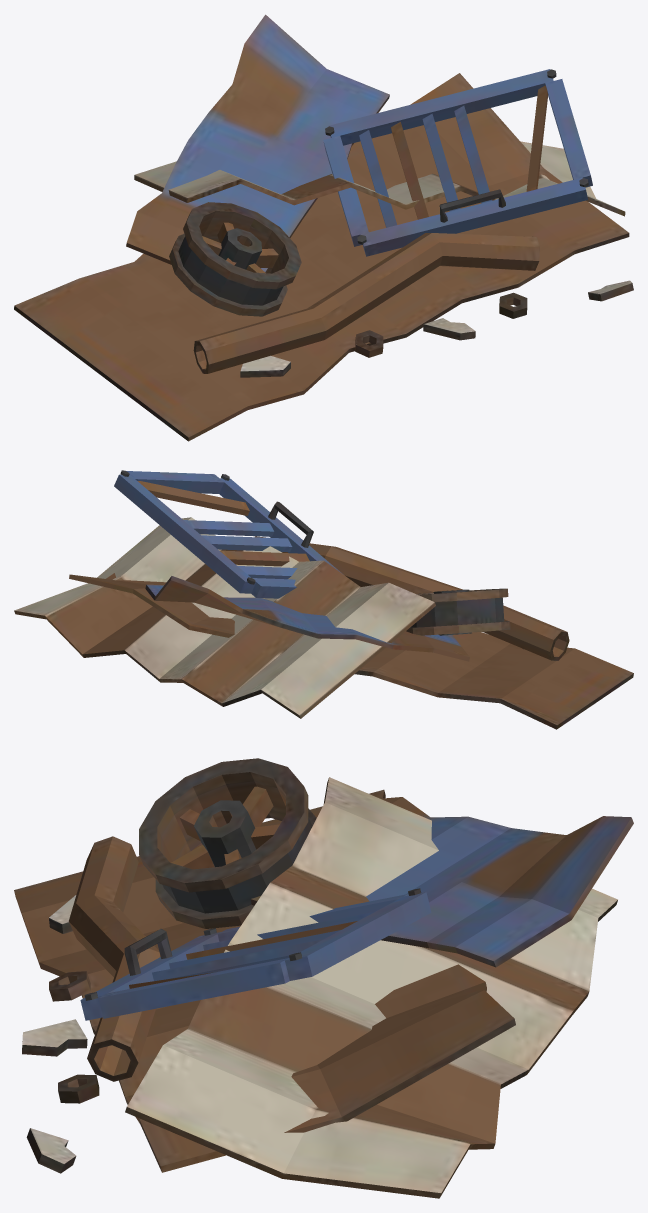
File: JV24_scrap_metal_piles_v1.glb
3 renders of one model, top to bottom at view 1: azimuth 30°, elevation 25°; view 2: azimuth 150°, elevation 25°; view 3: azimuth 270°, elevation 25°, orthographic. The views are drawn at different scales.
Parts seen in each view (by area): view 1: Scrap Pile - Press Offcuts; view 2: Scrap Pile - Press Offcuts; view 3: Scrap Pile - Press Offcuts.
Boxes of the visible parts, x1=… form: Scrap Pile - Press Offcuts: x1=14, y1=14, x2=633, y2=441; Scrap Pile - Press Offcuts: x1=14, y1=470, x2=633, y2=729; Scrap Pile - Press Offcuts: x1=14, y1=758, x2=633, y2=1198.
Size of the model in its own units: 1.5 by 0.4917 by 0.9741.
5 materials, 5 textured.
